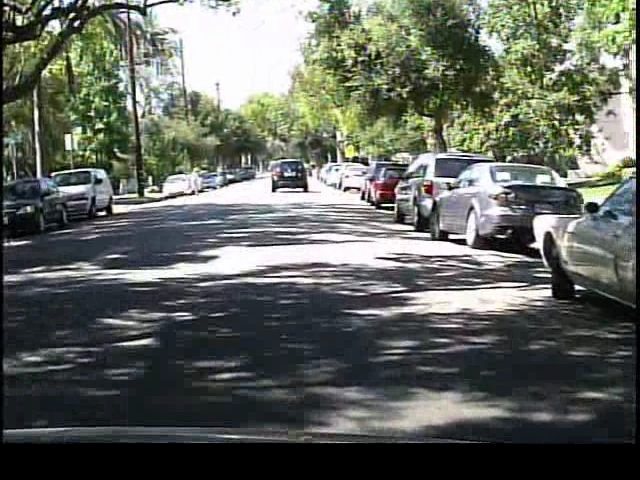person: (185, 163, 203, 201)
